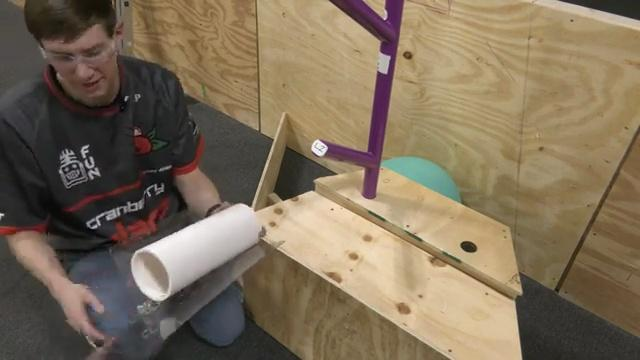CORAL: (129, 201, 263, 302)
